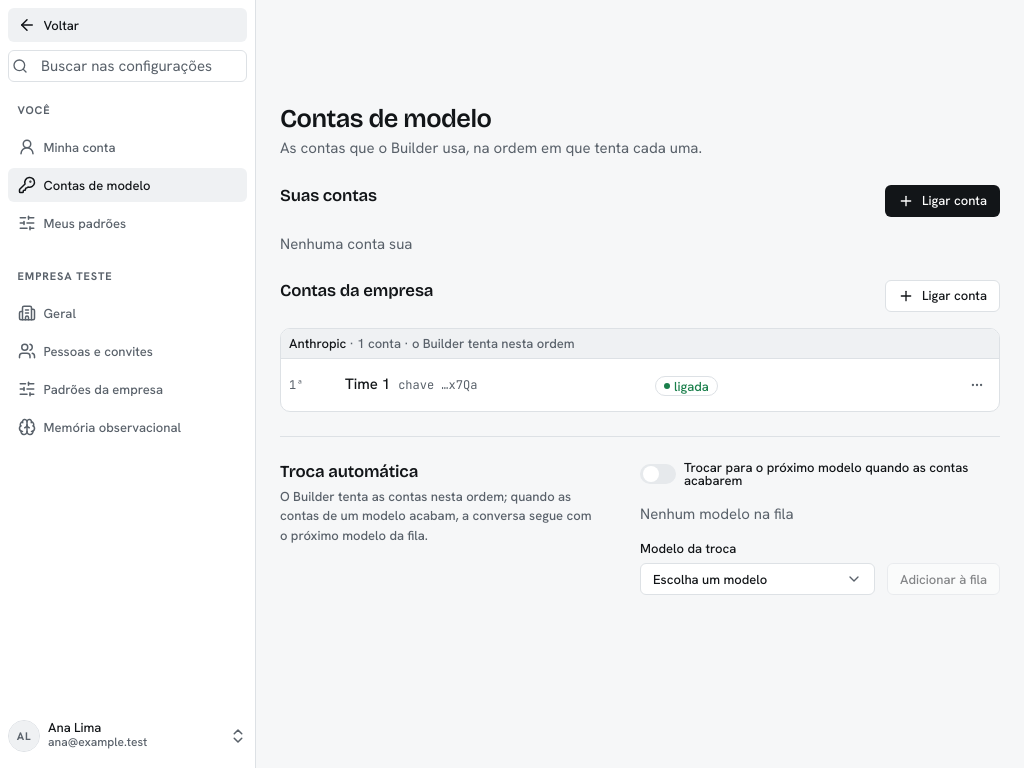
it: Pausar e Retomar mandam a revisão lida e a conta muda de palavra
(page scrolled)
Click the button named "Mais ações para Time 1" at (977, 385), box [963,371,991,399]
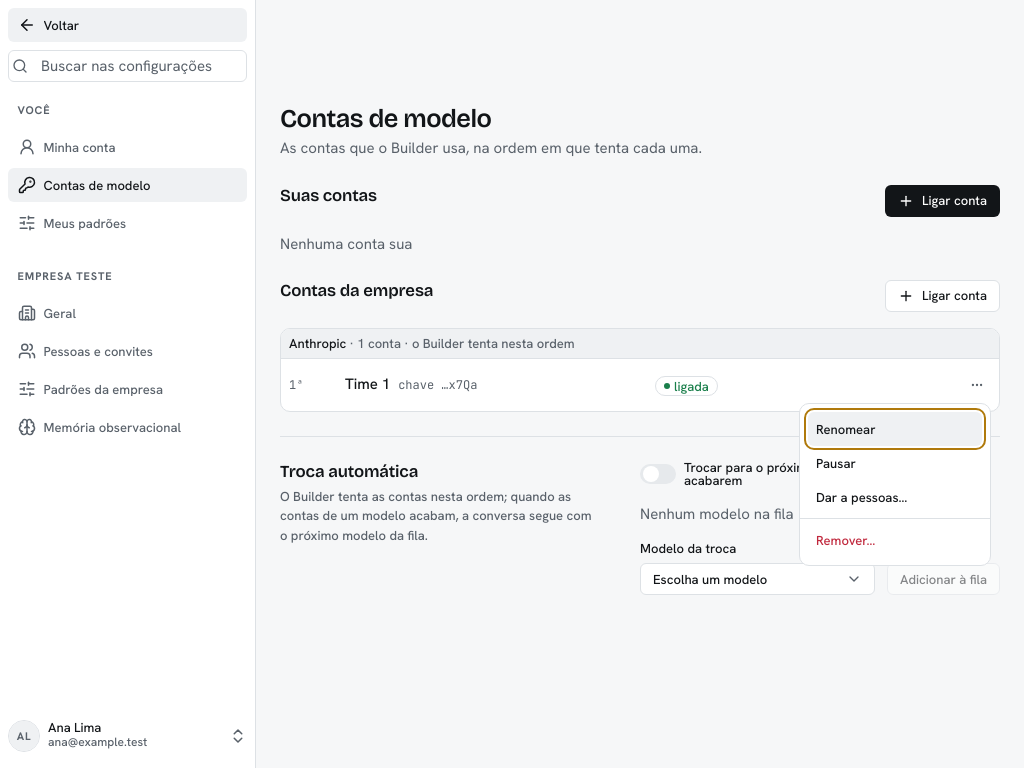
Click the menu item "Pausar" at (836, 463), box [816,454,856,472]
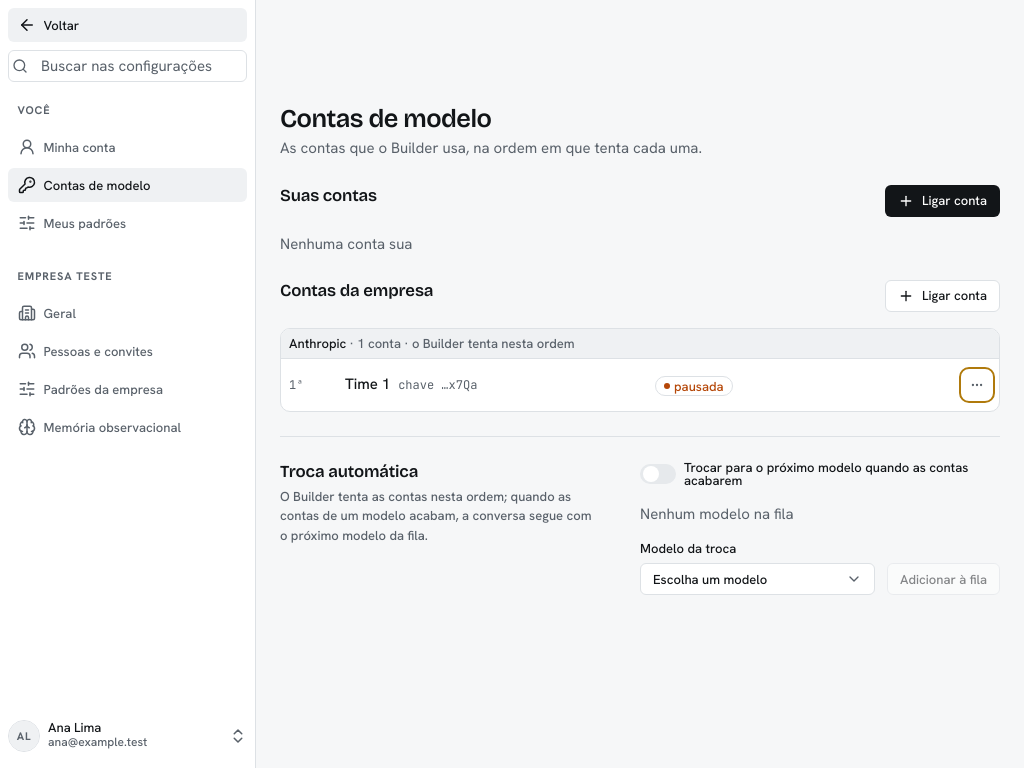
Now the text "pausada" is shown, box [655,376,733,396]
Click the button named "Mais ações para Time 1" at (977, 385), box [963,371,991,399]
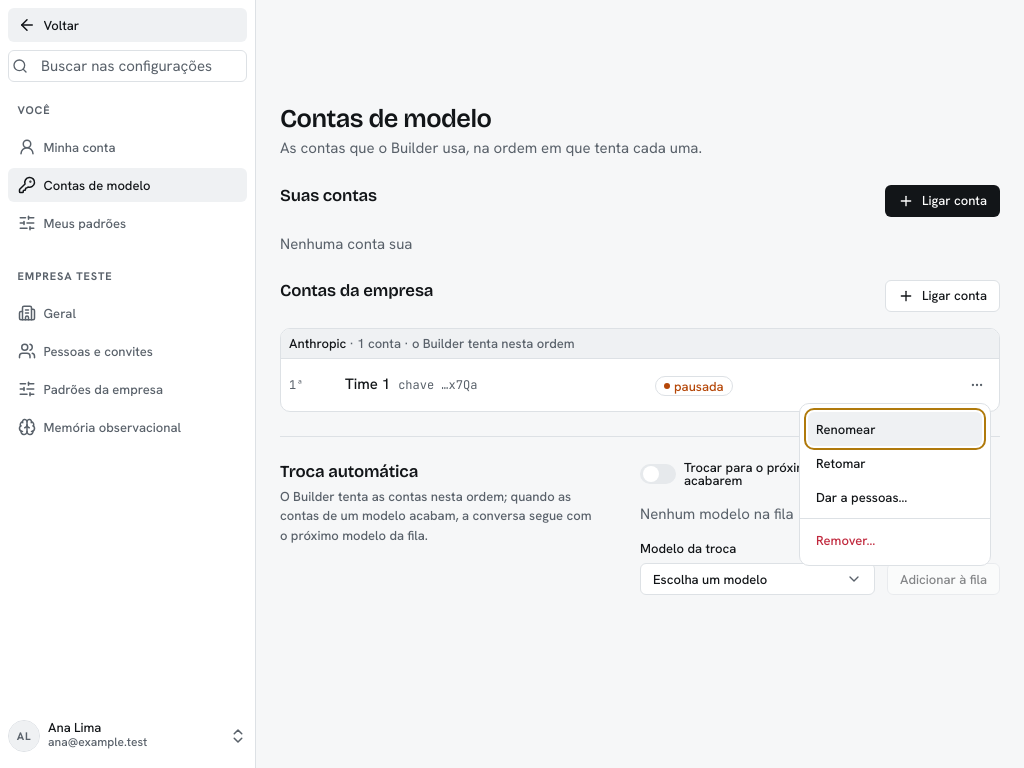
Click the menu item "Retomar" at (841, 463), box [816,454,866,472]
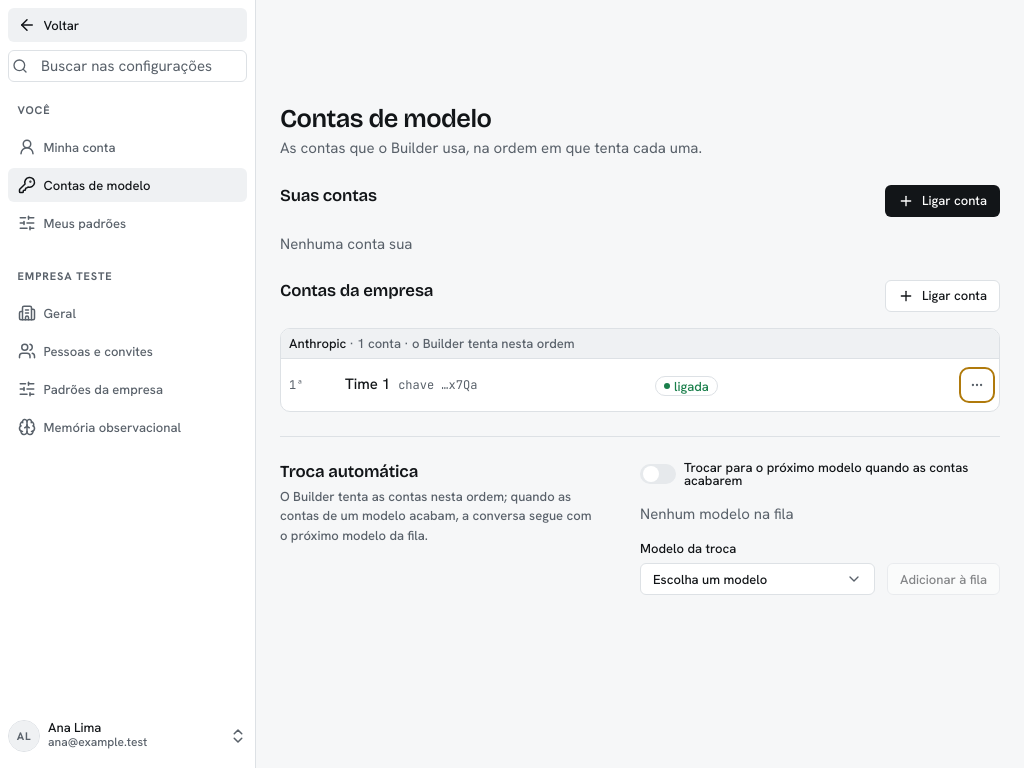
Now the text "ligada" is shown, box [655,376,718,396]
